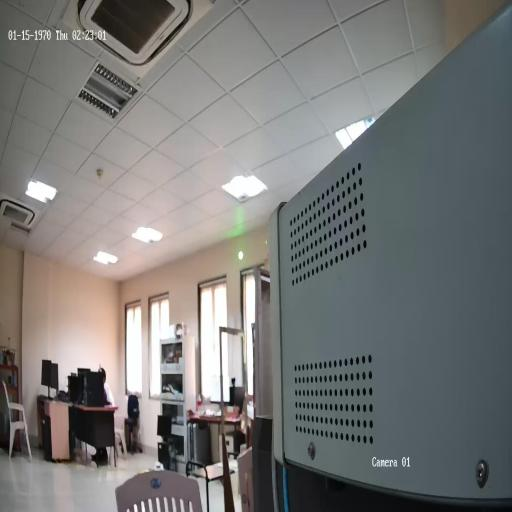laser: (238, 248, 243, 262)
